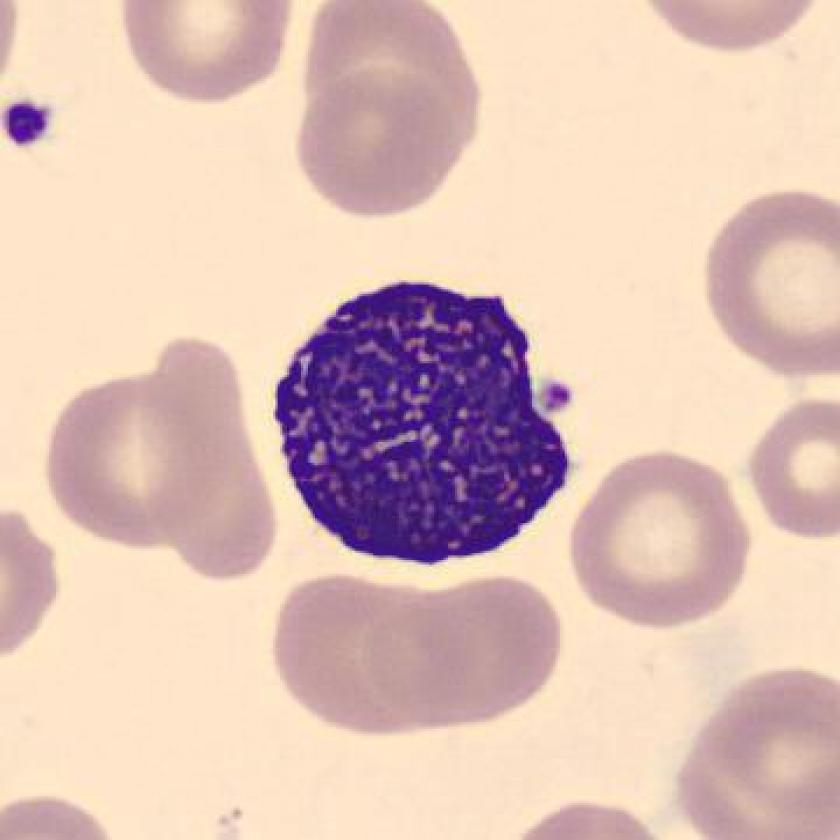basophil: (267, 269, 580, 582)
